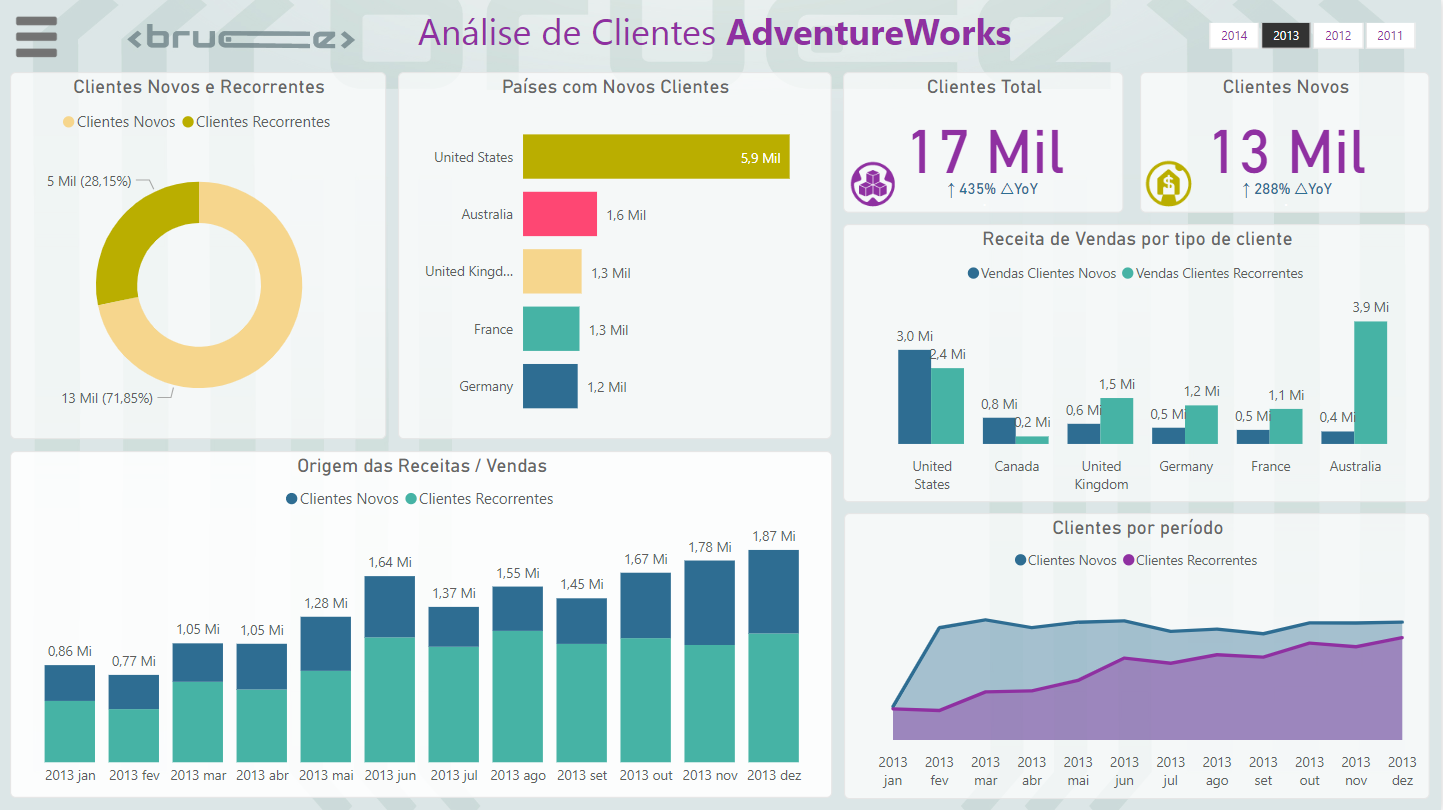

The dashboard page shown, as its layout file describes it:
{"tool":"powerbi","page":{"name":"Clientes AdventureWorks","canvas":[1280,720],"ordinal":0},"visuals":[{"type":"slicer","fields":{"Values":["DimDate.CalendarYear"]},"box":[1047.3,13.6,232.7,36.4],"z":0},{"type":"clusteredColumnChart","title":"Receita de Vendas por tipo de cliente","fields":{"Category":["DimGeography.EnglishCountryRegionName"],"Y":["#Measures.Vendas Clientes Novos","#Measures.Vendas Clientes Recorrentes"]},"box":[748.2,199.1,520.9,247.3],"z":1000},{"type":"card","title":"Clientes Novos","fields":{"Values":["#Measures.Clientes Novos"]},"box":[1011.8,63.6,257.3,125.5],"z":2000},{"type":"card","title":"Clientes Total","fields":{"Values":["#Measures.Clientes"]},"box":[748.2,63.6,249.1,125.5],"z":3000},{"type":"card","fields":{"Values":["#Measures.Clientes Novos LY Delta % txt"]},"box":[1062.3,149,159.6,39.9],"z":4000},{"type":"card","fields":{"Values":["#Measures.Clientes LY Delta % txt"]},"box":[799.8,149,162.3,39.9],"z":5000},{"type":"donutChart","title":"Clientes Novos e Recorrentes","fields":{"Y":["#Measures.Clientes Novos","#Measures.Clientes - novos"]},"box":[9.1,63.6,333.6,326.4],"z":6000},{"type":"clusteredBarChart","title":"TOP 3 países com Novos Clientes","fields":{"Y":["#Measures.Clientes Novos"],"Category":["DimGeography.EnglishCountryRegionName"]},"box":[353.6,63.6,384.5,326.4],"z":7000},{"type":"columnChart","title":"Origem das Receitas / Vendas","fields":{"Category":["DimDate.YearMonthDesc"],"Y":["#Measures.Vendas Clientes Novos","#Measures.Vendas Clientes Recorrentes"]},"box":[8.9,400.8,729.8,307.7],"z":8000},{"type":"lineChart","title":"Clientes por período","fields":{"Category":["DimDate.YearMonthDesc"],"Y":["#Measures.Clientes Novos","#Measures.Clientes Recorrentes"]},"box":[749.1,455.5,520,253.6],"z":9000},{"type":"textbox","box":[343.6,0,653.6,63.6],"z":10000},{"type":"image","box":[749.1,138.2,50.9,50],"z":11000},{"type":"image","box":[1011.8,137.3,50.9,50.9],"z":12000},{"type":"image","box":[8.9,7.1,47,49.7],"z":13000},{"type":"actionButton","box":[0,0,63,63.8],"z":14000}]}

Visuals, with their boxes in screenshot pixels (x1, y1, x2, y2), scaled from the page's 1280x720 canvas onto the 1443x810 screenshot:
slicer - DimDate.CalendarYear: (left=1181, top=15, right=1442, bottom=56)
"Receita de Vendas por tipo de cliente" clusteredColumnChart: (left=843, top=224, right=1431, bottom=502)
"Clientes Novos" card: (left=1141, top=72, right=1431, bottom=213)
"Clientes Total" card: (left=843, top=72, right=1124, bottom=213)
card - #Measures.Clientes Novos LY Delta % txt: (left=1198, top=168, right=1378, bottom=213)
card - #Measures.Clientes LY Delta % txt: (left=902, top=168, right=1085, bottom=213)
"Clientes Novos e Recorrentes" donutChart: (left=10, top=72, right=386, bottom=439)
"TOP 3 países com Novos Clientes" clusteredBarChart: (left=399, top=72, right=832, bottom=439)
"Origem das Receitas / Vendas" columnChart: (left=10, top=451, right=833, bottom=797)
"Clientes por período" lineChart: (left=844, top=512, right=1431, bottom=798)
textbox: (left=387, top=0, right=1124, bottom=72)
image: (left=844, top=155, right=902, bottom=212)
image: (left=1141, top=154, right=1198, bottom=212)
image: (left=10, top=8, right=63, bottom=64)
actionButton: (left=0, top=0, right=71, bottom=72)
